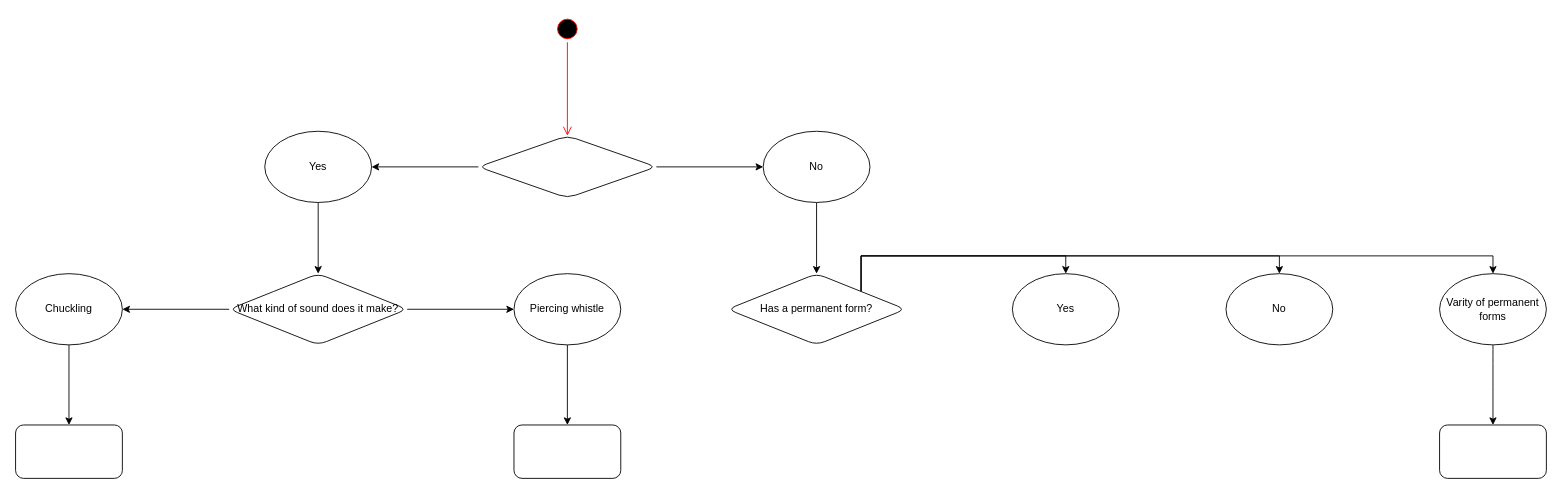
The diagram is 1562 pixels wide and 494 high, and some of its shapes have lost their labels. The shapes that lost their labels are listed below. From the top down, each one's centre as x and y in pixels, then its label:
At point (566, 166): "Invisible?".
At point (68, 451): "Star Vampire".
At point (567, 451): "Flying Polyp".
At point (1492, 451): "Nyarlathotep".
